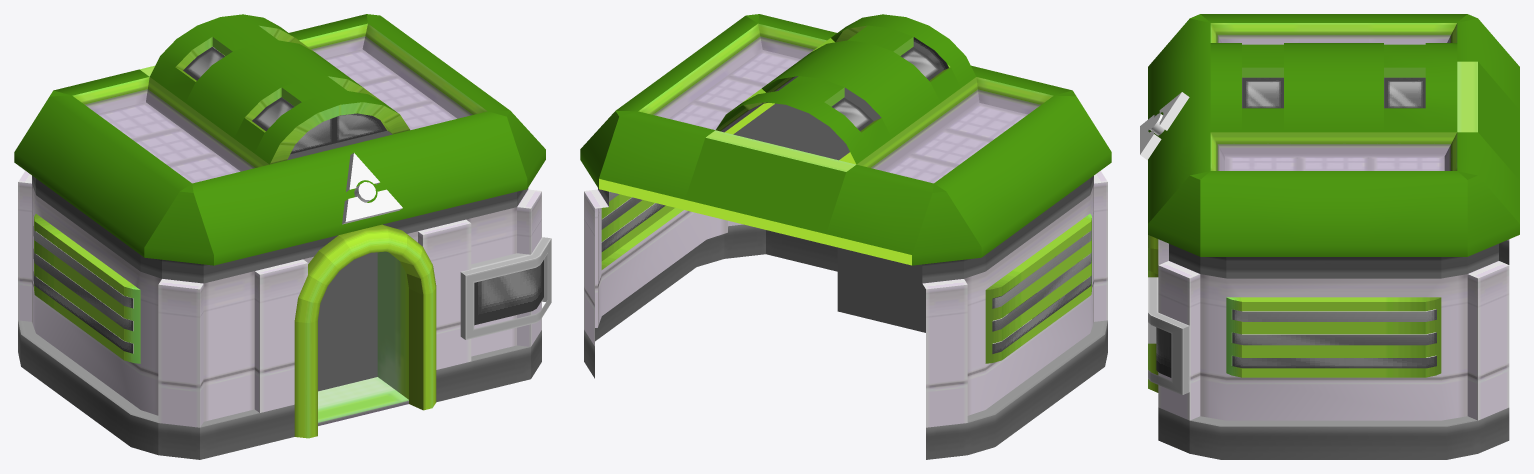
The model's file is MuggleCenter.FBX.
3 renders of one model, left to right at view 1: azimuth 30°, elevation 25°; view 2: azimuth 150°, elevation 25°; view 3: azimuth 270°, elevation 25°, orthographic. The views are drawn at different scales.
Visible parts, largest first — view 1: Pokemon_Center; view 2: Pokemon_Center; view 3: Pokemon_Center.
Part boxes in pixels (<box>): Pokemon_Center: <box>14,14,551,459</box>; Pokemon_Center: <box>580,14,1111,459</box>; Pokemon_Center: <box>1140,14,1519,459</box>.
Size of the model in its own units: 117 by 80.95 by 91.55.
4 materials, 2 textured.
